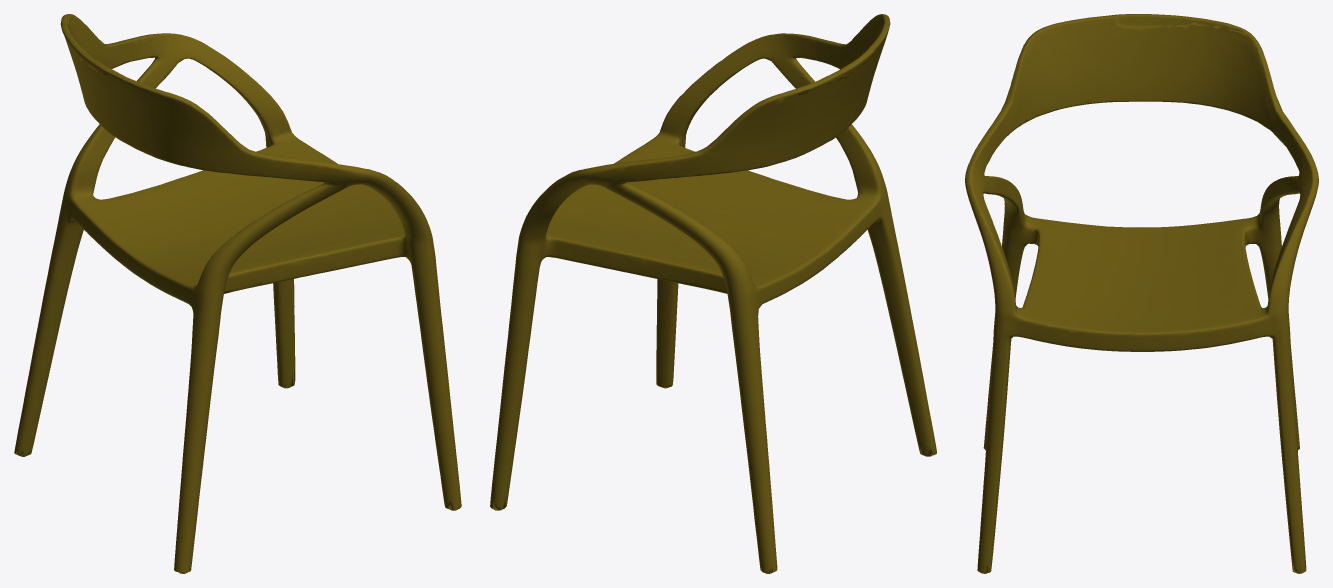
Rendered from ND-0606__Grace5_34.glb.
3 renders of one model, left to right at view 1: azimuth 30°, elevation 25°; view 2: azimuth 150°, elevation 25°; view 3: azimuth 270°, elevation 25°, orthographic. The views are drawn at different scales.
Parts seen in each view (by area): view 1: tripo_node_2e22271b-d331-4cb1-b050-75c7afa1819d; view 2: tripo_node_2e22271b-d331-4cb1-b050-75c7afa1819d; view 3: tripo_node_2e22271b-d331-4cb1-b050-75c7afa1819d.
Boxes of the visible parts, x1,y1,x2,y2 form: tripo_node_2e22271b-d331-4cb1-b050-75c7afa1819d: [14, 14, 461, 573]; tripo_node_2e22271b-d331-4cb1-b050-75c7afa1819d: [490, 14, 936, 573]; tripo_node_2e22271b-d331-4cb1-b050-75c7afa1819d: [965, 14, 1318, 573].
Bounding box in the file's own units: 0.6463 × 0.9809 × 0.7289.
